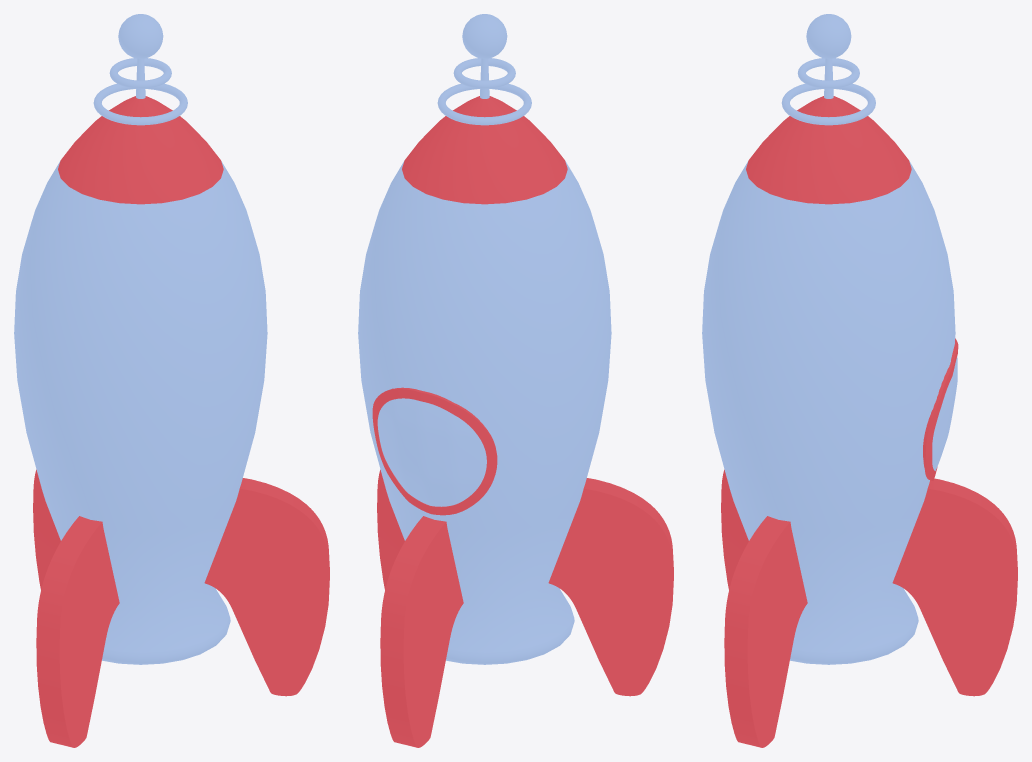
File: rocket12345.fbx
3 renders of one model, left to right at view 1: azimuth 30°, elevation 25°; view 2: azimuth 150°, elevation 25°; view 3: azimuth 270°, elevation 25°, orthographic.
Visible parts, largest first — view 1: Lathe, Cap_2_2, Cap_1_3, Extrude_1, Cap_1, Sphere, Torus_1, Extrude_2, Torus; view 2: Lathe, Cap_2_3, Sphere_2, Cap_1, Extrude_3, Cylinder, Cap_1_2, Sphere, Torus_1, Extrude_1, Torus; view 3: Lathe, Cap_2, Cap_1_2, Extrude_2, Cap_1_3, Sphere, Torus_1, Sphere_2, Cylinder, Extrude_3, Torus.
Part boxes in pixels (x1=…): Lathe: x1=14, y1=96, x2=267, y2=664; Cap_2_2: x1=204, y1=488, x2=329, y2=696; Cap_1_3: x1=59, y1=522, x2=119, y2=747; Extrude_1: x1=36, y1=516, x2=101, y2=747; Cap_1: x1=33, y1=469, x2=60, y2=589; Sphere: x1=118, y1=14, x2=163, y2=58; Torus_1: x1=93, y1=83, x2=187, y2=125; Extrude_2: x1=239, y1=478, x2=329, y2=577; Torus: x1=109, y1=58, x2=171, y2=88; Lathe: x1=358, y1=96, x2=611, y2=664; Cap_2_3: x1=548, y1=488, x2=673, y2=696; Sphere_2: x1=377, y1=387, x2=486, y2=506; Cap_1: x1=403, y1=522, x2=463, y2=747; Extrude_3: x1=380, y1=516, x2=445, y2=747; Cylinder: x1=372, y1=387, x2=497, y2=515; Cap_1_2: x1=377, y1=469, x2=404, y2=589; Sphere: x1=462, y1=14, x2=507, y2=58; Torus_1: x1=437, y1=83, x2=531, y2=125; Extrude_1: x1=583, y1=478, x2=673, y2=577; Torus: x1=453, y1=58, x2=515, y2=88; Lathe: x1=702, y1=96, x2=955, y2=664; Cap_2: x1=892, y1=488, x2=1017, y2=696; Cap_1_2: x1=747, y1=522, x2=807, y2=747; Extrude_2: x1=724, y1=516, x2=789, y2=747; Cap_1_3: x1=721, y1=469, x2=748, y2=589; Sphere: x1=806, y1=14, x2=851, y2=58; Torus_1: x1=781, y1=83, x2=875, y2=125; Sphere_2: x1=923, y1=356, x2=957, y2=470; Cylinder: x1=923, y1=338, x2=958, y2=480; Extrude_3: x1=927, y1=478, x2=1017, y2=577; Torus: x1=797, y1=58, x2=859, y2=88.
Bounding box in the file's own units: 255 × 555 × 236.
